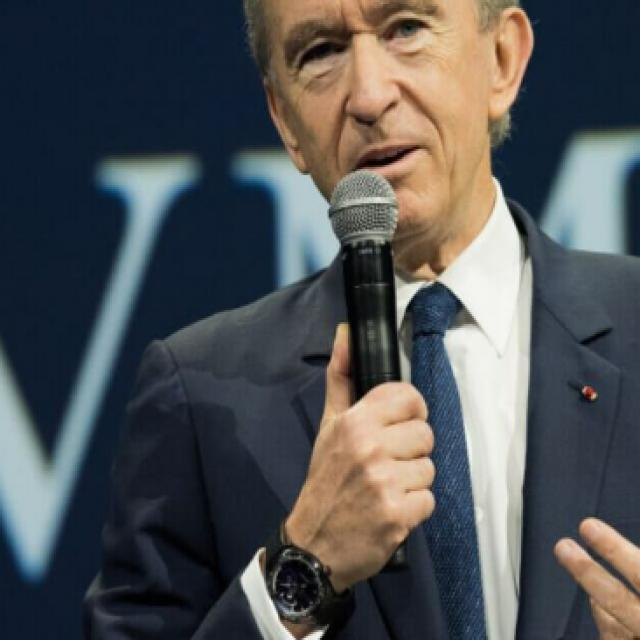Watch: (261, 518, 356, 630)
